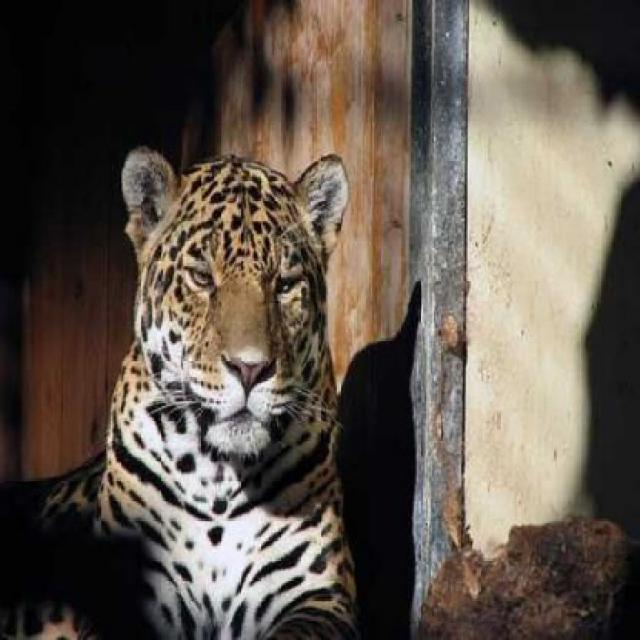Leopard: (74, 127, 388, 639)
